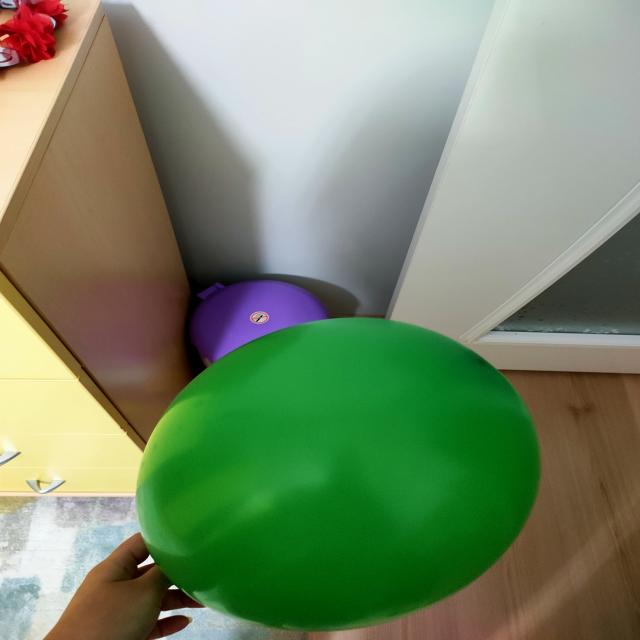green: (137, 319, 541, 632)
